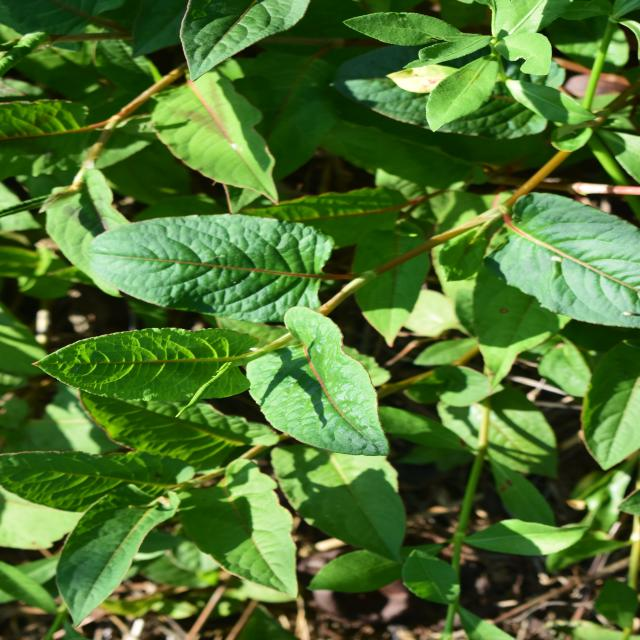Chinese_knotweed: (195, 33, 420, 424), (26, 0, 231, 420)
